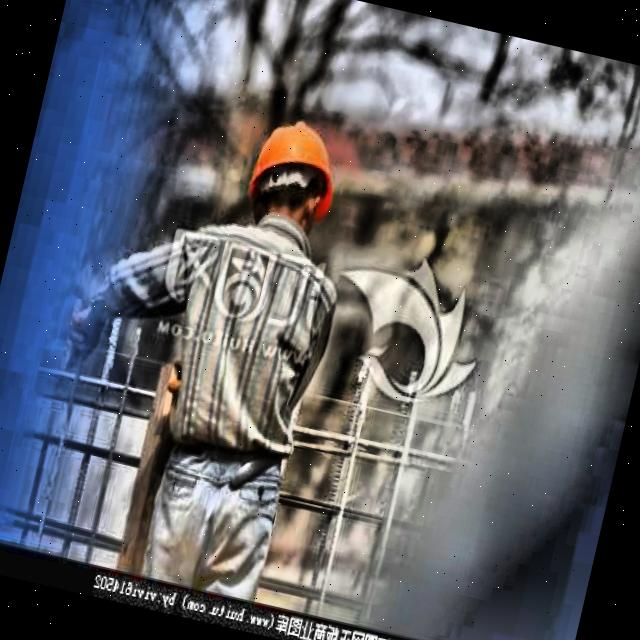helmet: (228, 100, 358, 262)
